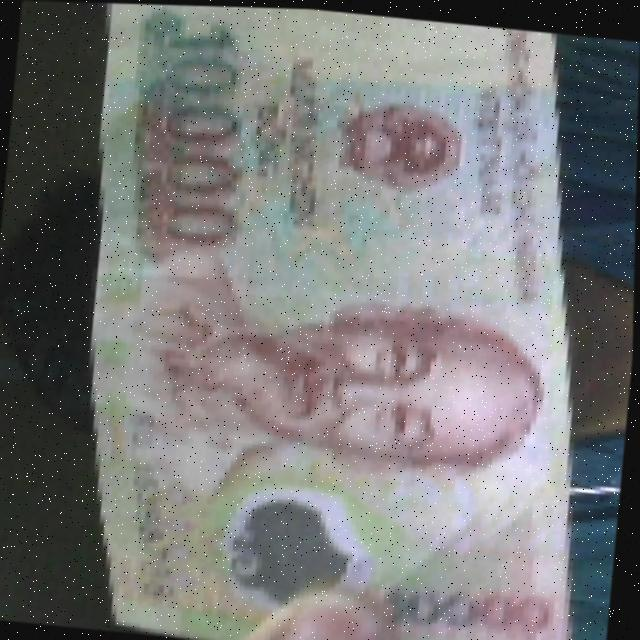10 000 VND: (42, 1, 626, 640)
